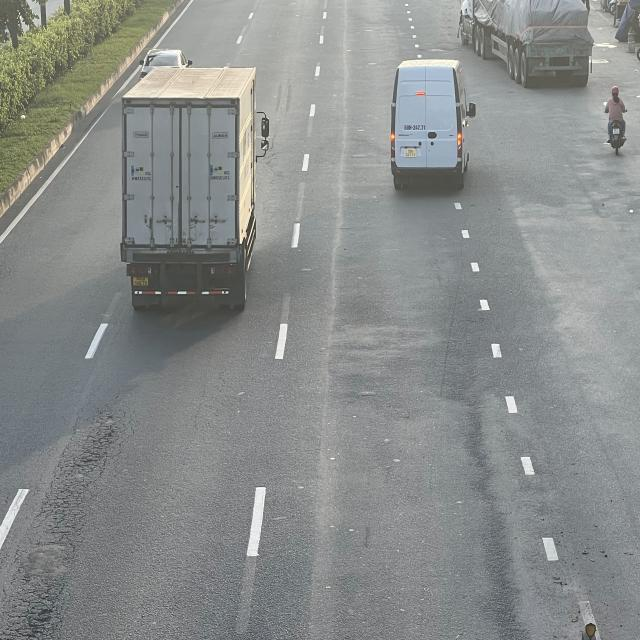container: (458, 1, 592, 83)
truck: (118, 66, 266, 316)
van: (389, 61, 475, 193)
